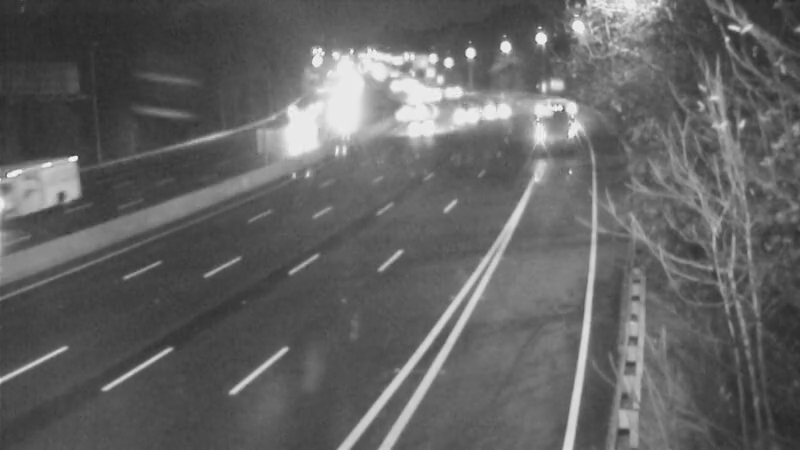vehicle: (2, 153, 82, 233), (429, 63, 479, 113), (395, 73, 445, 123), (473, 81, 523, 131), (385, 90, 435, 140), (445, 85, 495, 135), (406, 94, 456, 144), (533, 95, 583, 145), (261, 109, 311, 159)
